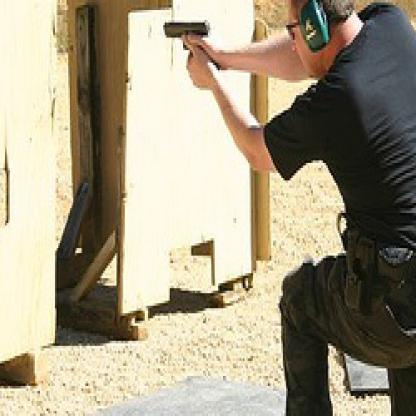gun: (160, 18, 209, 63)
